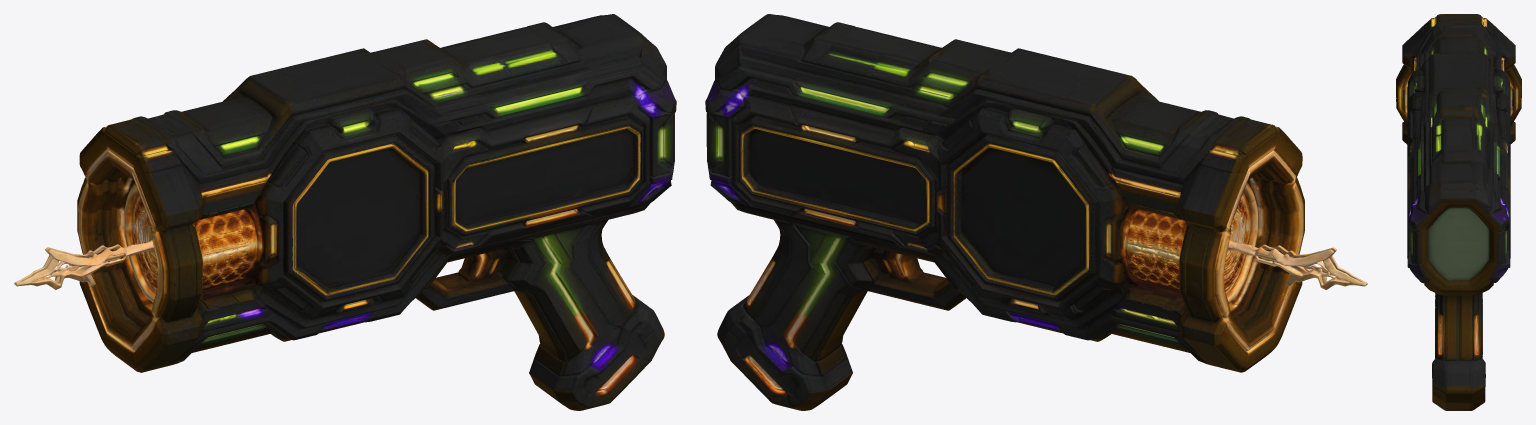
The model's file is NEW_gun_SA4-ORIGINAL-372k.glb.
The picture shows the model from 3 angles, left to right: view 1: azimuth 30°, elevation 25°; view 2: azimuth 150°, elevation 25°; view 3: azimuth 270°, elevation 25°; orthographic projection. The views are drawn at different scales.
Visible parts, largest first — view 1: material; view 2: material; view 3: material.
Part boxes in pixels (box(x1,y1,x2,y2)): material: box(14, 14, 676, 410); material: box(705, 14, 1367, 410); material: box(1396, 14, 1521, 410).
Size of the model in its own units: 1.11 by 0.639 by 0.2888.
Materials: 1 (1 with a texture image).
